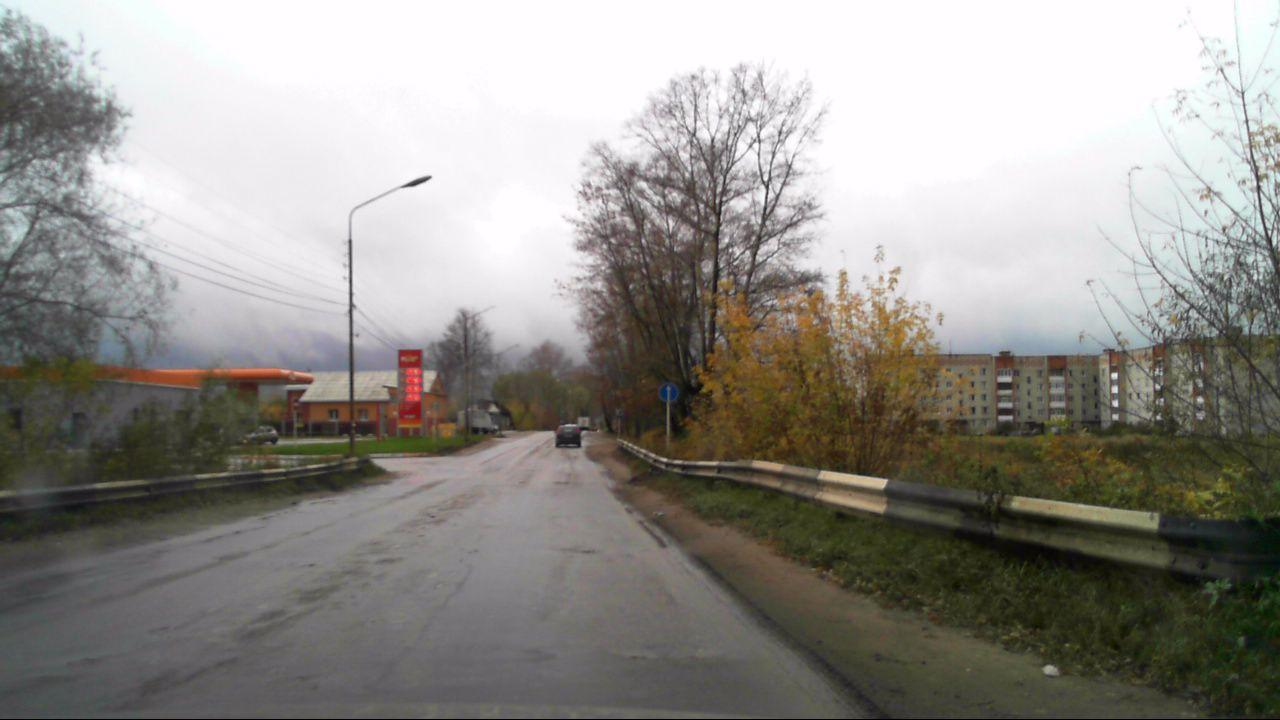road_sign: (658, 383, 678, 403)
